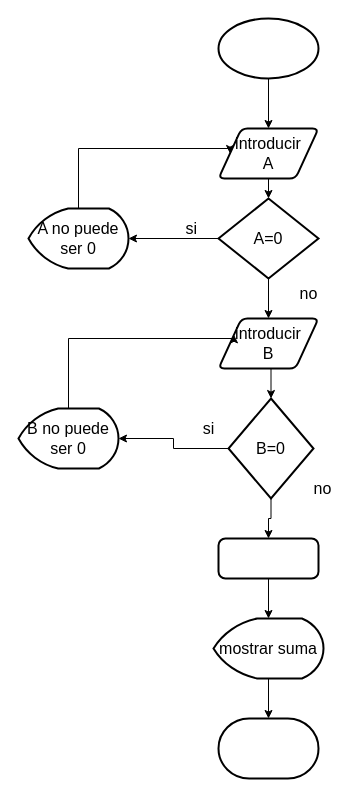
The diagram is 359 pixels wide and 796 high, and some of its shapes have lost their labels. The shapes that lost their labels are listed below. From the top down, each one's box as (x1, y1, x2, y2) in pixels, then its label:
(217, 17, 319, 79): inicio
(217, 537, 319, 579): suma = A+B
(217, 717, 319, 779): Fin
